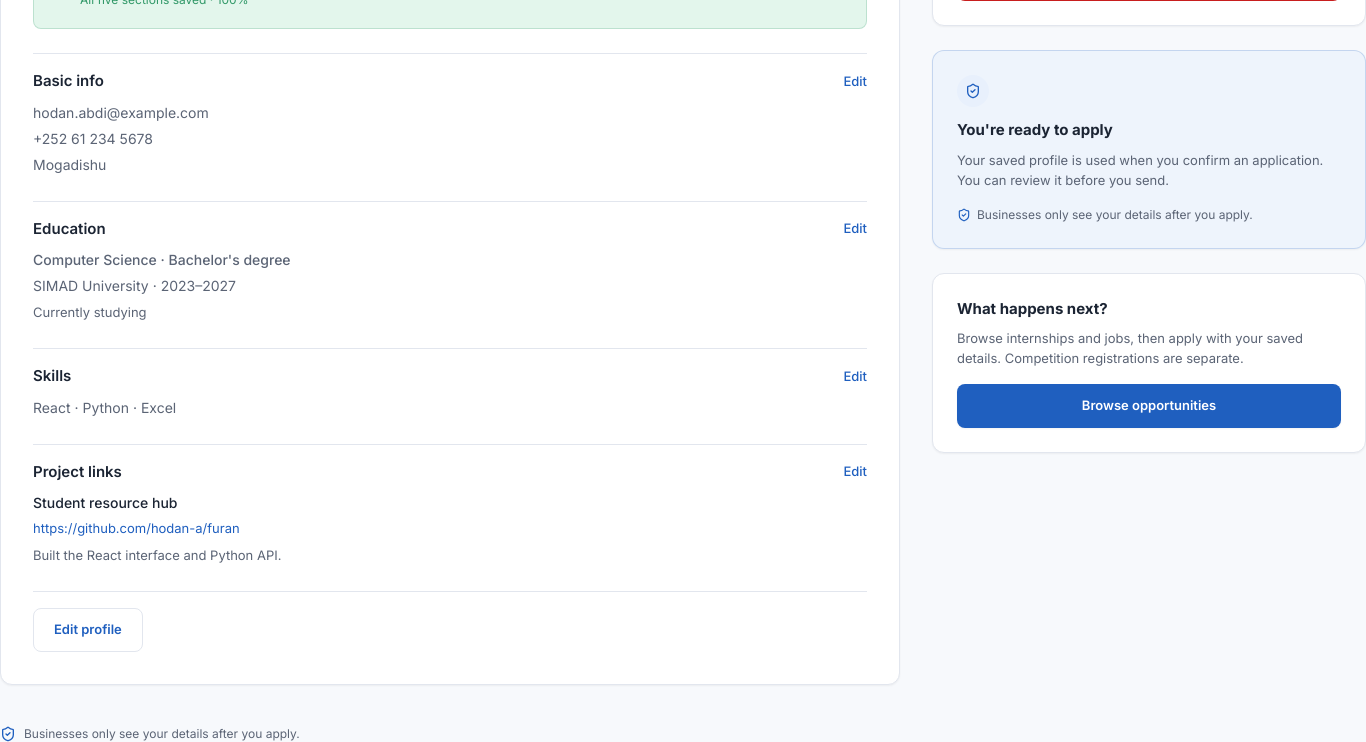
Scenario: Student Workspace — Phase 7 Suite › Student Profile › saves changes successfully in Edit mode and updates profile
This screenshot has width=1366, height=742.
(page scrolled)
Click the button "Edit profile": (88, 630) [33,608,143,652]
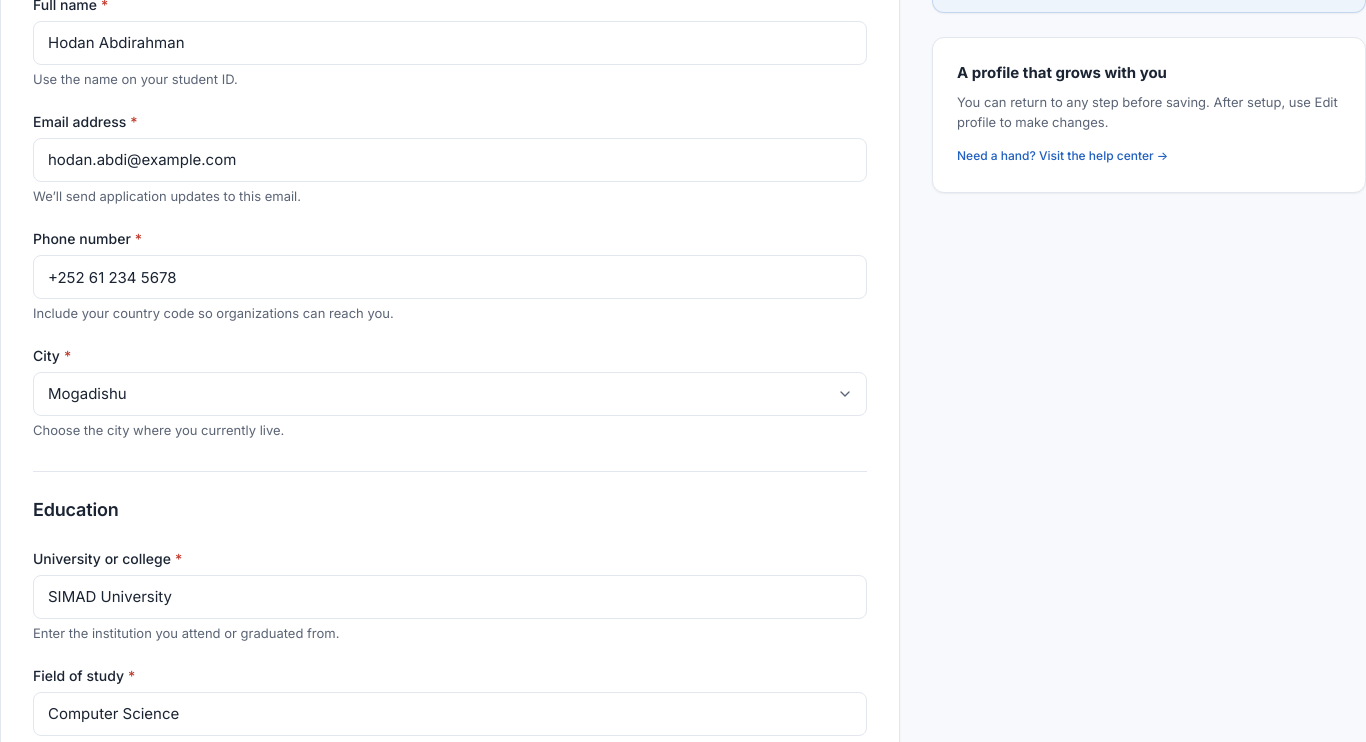
Replace the text in the field labelled "Full name*" with "Hodan Abdirahman Updated": (450, 42) [33,20,867,64]
(page scrolled)
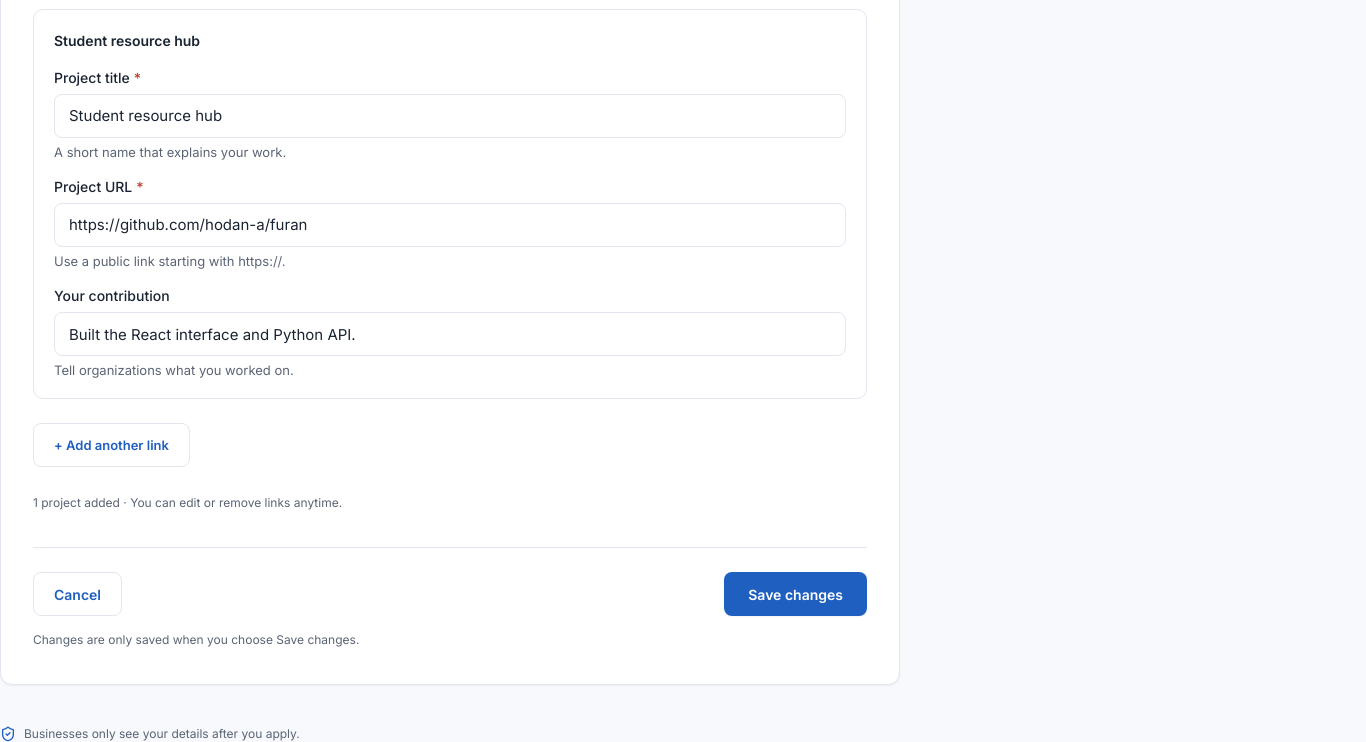
Click the button "Save changes": (796, 594) [724,572,867,616]
(page scrolled)
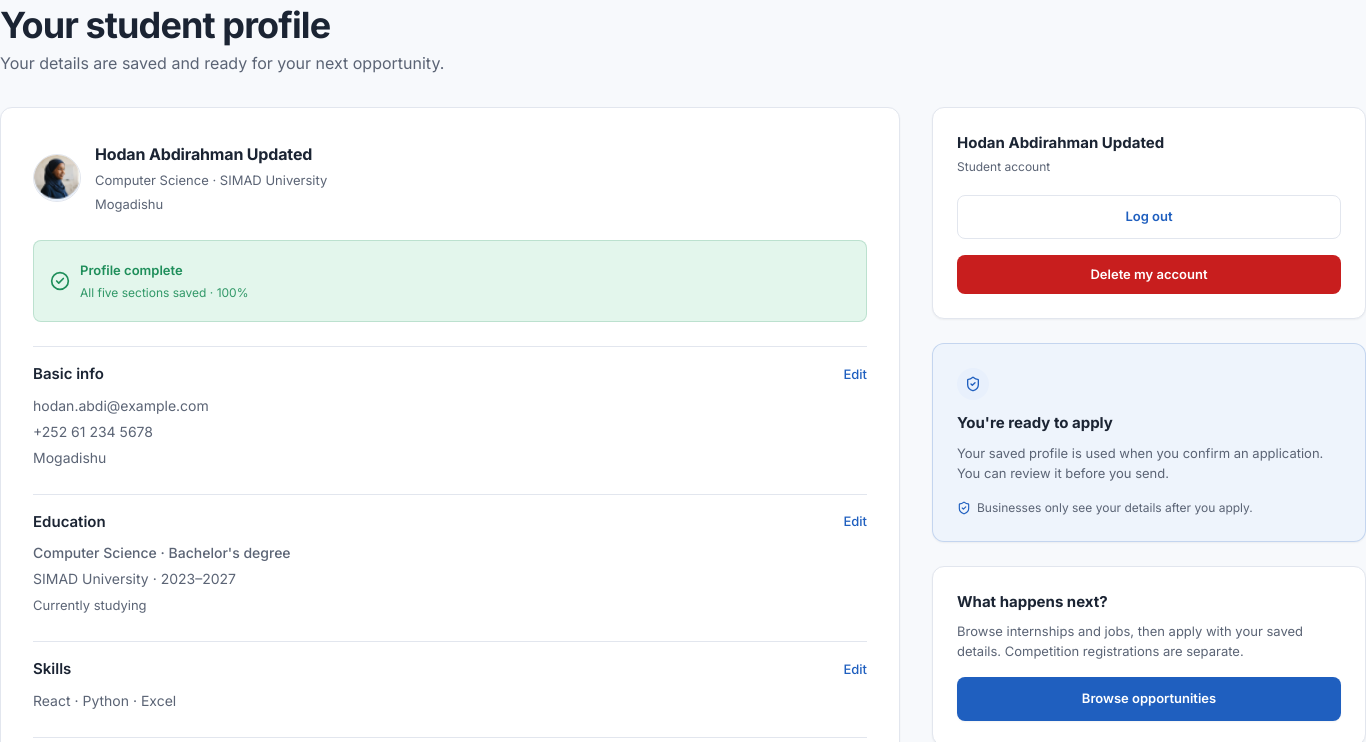
Now the heading "Your student profile" is shown, box [0,3,330,47]
